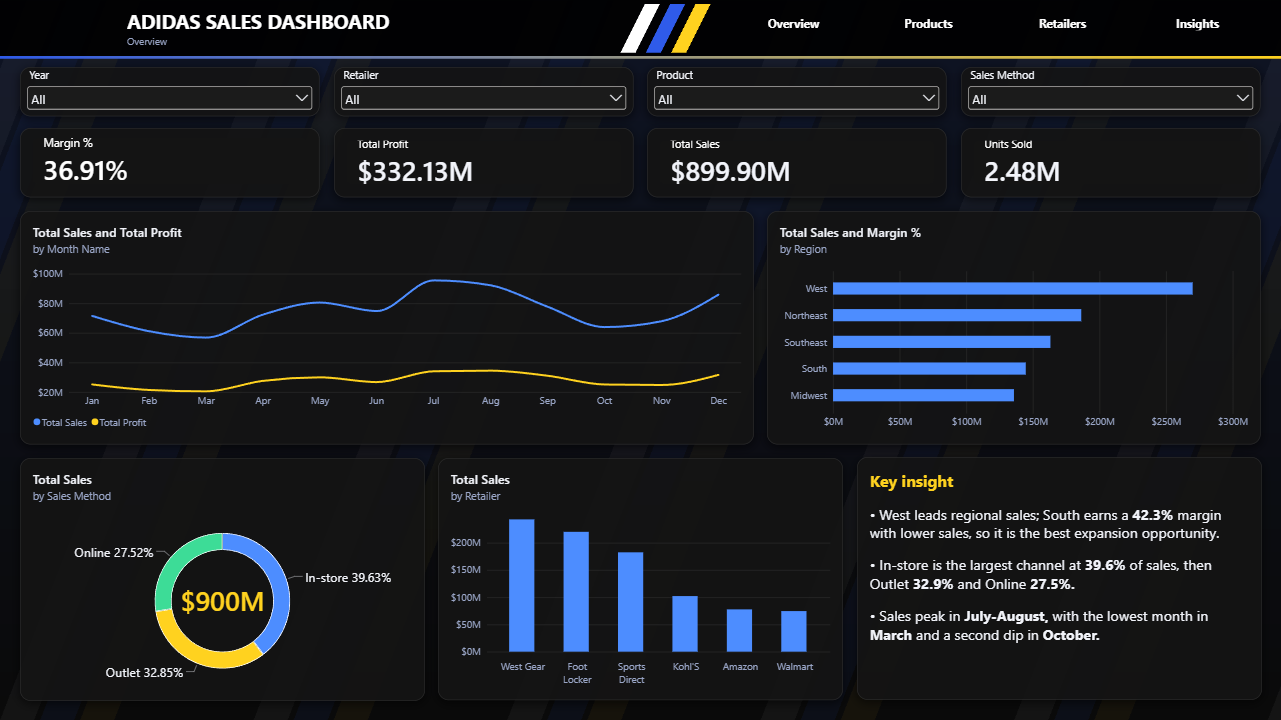

The page's visual inventory and layout, read from the dashboard file:
{"tool":"powerbi","page":{"name":"Overview","canvas":[1920,1080],"ordinal":0},"visuals":[{"type":"slicer","fields":{"Values":["Fact_Sales.Sales Method"]},"box":[1440,100.7,449.4,74.4],"z":0},{"type":"cardVisual","fields":{"Data":["_Measures.Margin %"]},"box":[30.6,192.6,449.4,103.6],"z":1000},{"type":"cardVisual","fields":{"Data":["_Measures.Units Sold"]},"box":[1440,192.6,449.4,103.6],"z":2000},{"type":"cardVisual","fields":{"Data":["_Measures.Total Profit"]},"box":[500.4,192.6,449.4,103.6],"z":3000},{"type":"cardVisual","fields":{"Data":["_Measures.Total Sales"]},"box":[970.2,192.6,449.4,103.6],"z":4000},{"type":"slicer","fields":{"Values":["Fact_Sales.Product"]},"box":[970.2,100.7,449.4,74.4],"z":5000},{"type":"slicer","fields":{"Values":["Fact_Sales.Retailer"]},"box":[500.4,100.7,449.4,74.4],"z":6000},{"type":"slicer","fields":{"Values":["Dim_Date.Year"]},"box":[30.6,100.7,449.4,74.4],"z":7000},{"type":"lineChart","fields":{"Category":["Dim_Date.Month Name"],"Y":["_Measures.Total Sales","_Measures.Total Profit"]},"box":[30,316,1100,350],"z":8000},{"type":"barChart","fields":{"Category":["Fact_Sales.Region"],"Y":["_Measures.Total Sales"]},"box":[1150,316,740,350],"z":9000},{"type":"columnChart","fields":{"Category":["Fact_Sales.Retailer"],"Y":["_Measures.Total Sales"]},"box":[656.5,685.7,606.9,363.3],"z":10000},{"type":"donutChart","fields":{"Category":["Fact_Sales.Sales Method"],"Y":["_Measures.Total Sales"]},"box":[30,686,606.7,364],"z":11000},{"type":"textbox","box":[1283.9,684.3,606.7,364],"z":12000},{"type":"textbox","box":[190,12,720,62],"z":13000},{"type":"pageNavigator","box":[1104.4,17.5,800,50],"z":13001}]}

Visuals, with their boxes in screenshot pixels (x1, y1, x2, y2), scaled from the page's 1920x1080 canvas onto the 1281x720 screenshot:
slicer - Fact_Sales.Sales Method: box=[961, 67, 1261, 117]
cardVisual - _Measures.Margin %: box=[20, 128, 320, 197]
cardVisual - _Measures.Units Sold: box=[961, 128, 1261, 197]
cardVisual - _Measures.Total Profit: box=[334, 128, 634, 197]
cardVisual - _Measures.Total Sales: box=[647, 128, 947, 197]
slicer - Fact_Sales.Product: box=[647, 67, 947, 117]
slicer - Fact_Sales.Retailer: box=[334, 67, 634, 117]
slicer - Dim_Date.Year: box=[20, 67, 320, 117]
lineChart - Dim_Date.Month Name x _Measures.Total Sales: box=[20, 211, 754, 444]
barChart - Fact_Sales.Region x _Measures.Total Sales: box=[767, 211, 1261, 444]
columnChart - Fact_Sales.Retailer x _Measures.Total Sales: box=[438, 457, 843, 699]
donutChart - Fact_Sales.Sales Method x _Measures.Total Sales: box=[20, 457, 425, 700]
textbox: box=[857, 456, 1261, 699]
textbox: box=[127, 8, 607, 49]
pageNavigator: box=[737, 12, 1271, 45]
